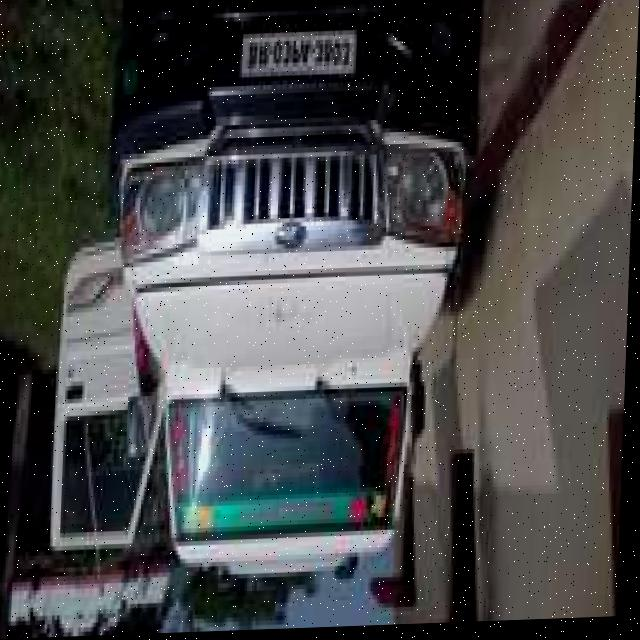plate: (240, 36, 358, 79)
